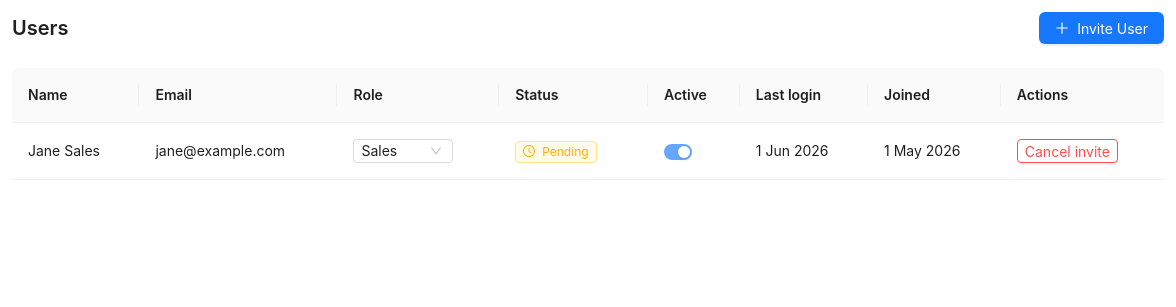
Scenario: UsersView › cancelling a pending invite confirms, then deletes and removes the row
Click the button "Cancel invite" at (1067, 151), box [1017,139,1118,163]
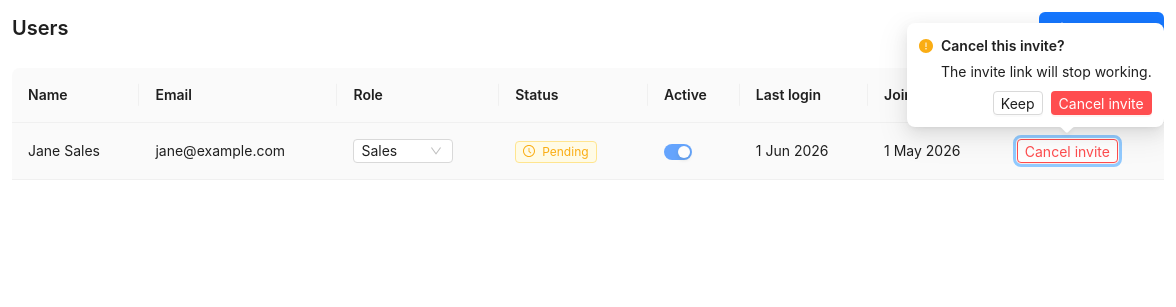
Click the button "Cancel invite" below "The invite link will stop working." at (1101, 103), box [1050,91,1152,115]
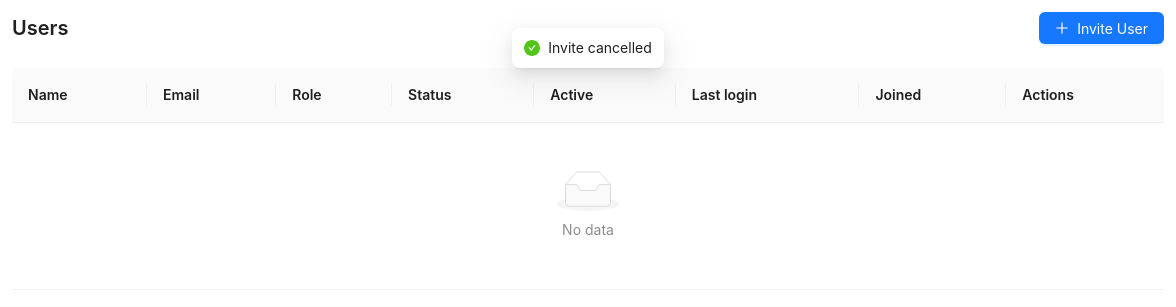
Now the text "Invite cancelled" is shown, box [548,37,652,59]
Now the text "Jane Sales" is gone
